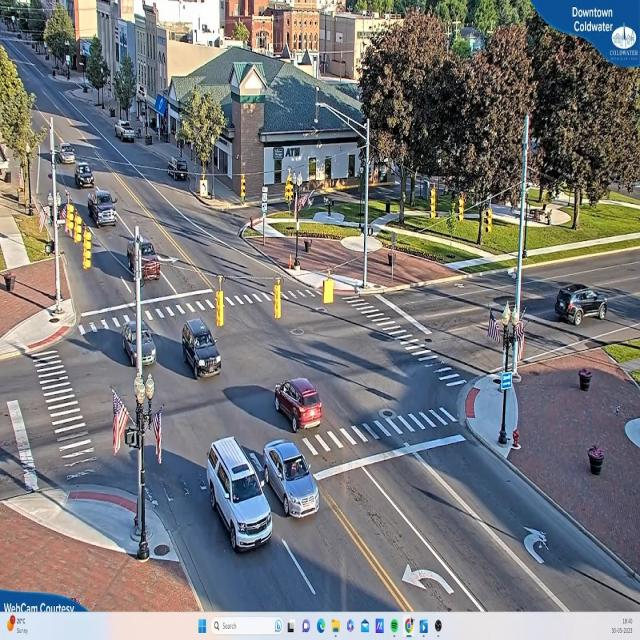car: (206, 440, 273, 551), (260, 441, 320, 519), (273, 380, 323, 431), (555, 282, 605, 330), (182, 320, 222, 379), (122, 320, 162, 368), (126, 235, 162, 284), (88, 192, 117, 227), (166, 159, 189, 180), (76, 164, 95, 186), (116, 123, 135, 143)
